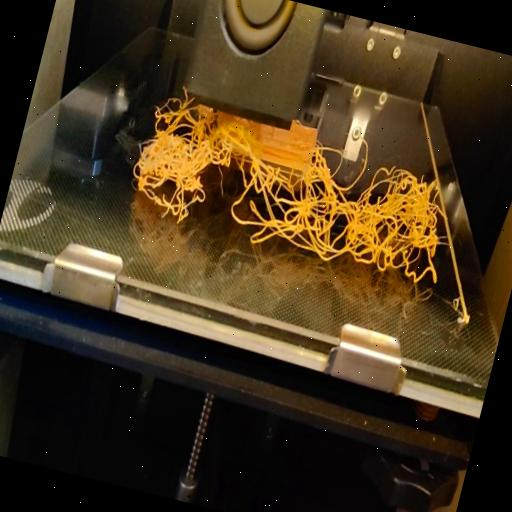spaghetti: (116, 90, 462, 297)
